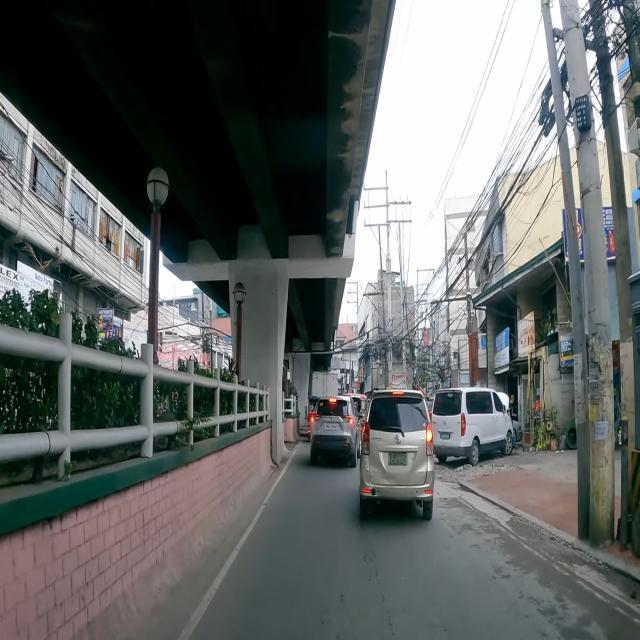car: (358, 390, 436, 522), (430, 387, 514, 465), (309, 397, 362, 468)
jeepney: (344, 393, 368, 433)
truck: (312, 371, 338, 396)
